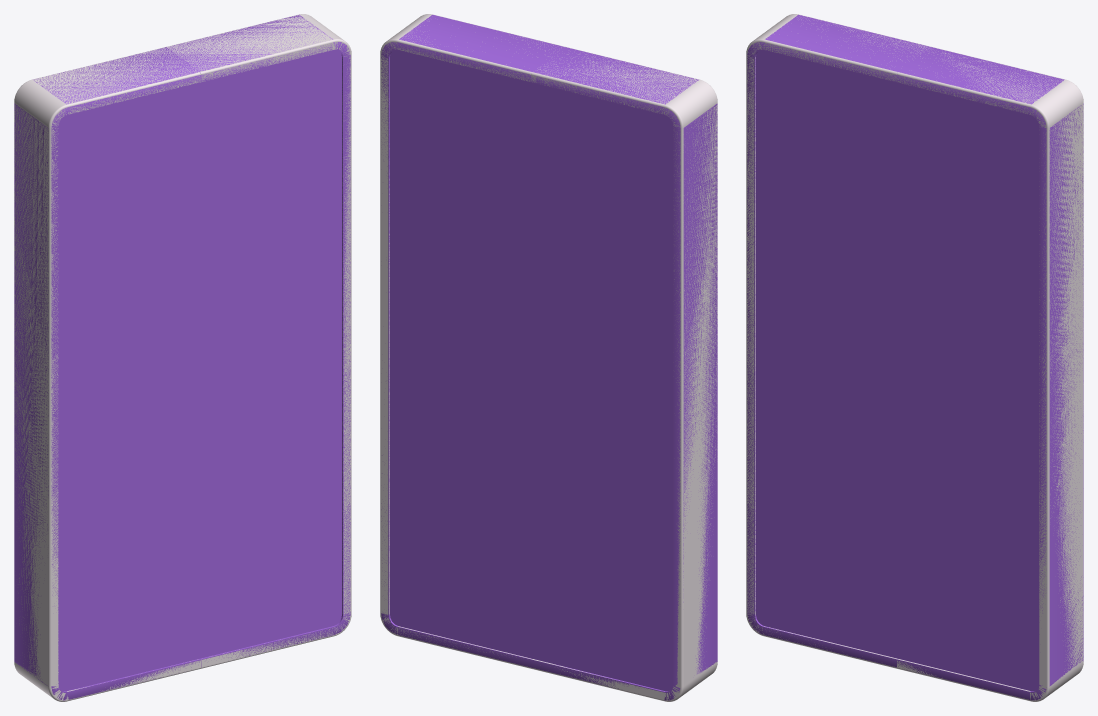
File: [decor] Material dummy rectangular.fbx
3 renders of one model, left to right at view 1: azimuth 30°, elevation 25°; view 2: azimuth 150°, elevation 25°; view 3: azimuth 330°, elevation 25°, orthographic.
Parts seen in each view (by area): view 1: Material dummy rectangular_PHYS, Material dummy rectangular_LOD0; view 2: Material dummy rectangular_PHYS, Material dummy rectangular_LOD0; view 3: Material dummy rectangular_PHYS, Material dummy rectangular_LOD0.
Boxes of the visible parts, x1,y1,x2,y2 form: Material dummy rectangular_PHYS: (14,14,350,700); Material dummy rectangular_LOD0: (14,14,351,701); Material dummy rectangular_PHYS: (381,15,717,700); Material dummy rectangular_LOD0: (380,14,717,701); Material dummy rectangular_PHYS: (747,14,1083,700); Material dummy rectangular_LOD0: (746,14,1083,701).
Size of what is drawn, in the model's own units: 200 by 376 by 41.24.
